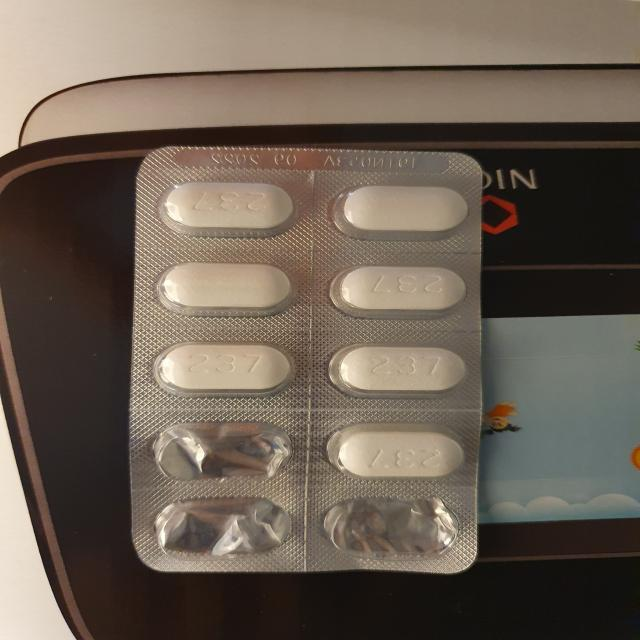Empty: (146, 494, 307, 568), (320, 492, 472, 567), (138, 413, 298, 484)
Pill: (324, 419, 489, 484), (152, 170, 305, 240), (146, 332, 307, 398), (328, 260, 485, 322), (318, 338, 474, 400), (148, 259, 305, 317), (330, 178, 474, 241)
